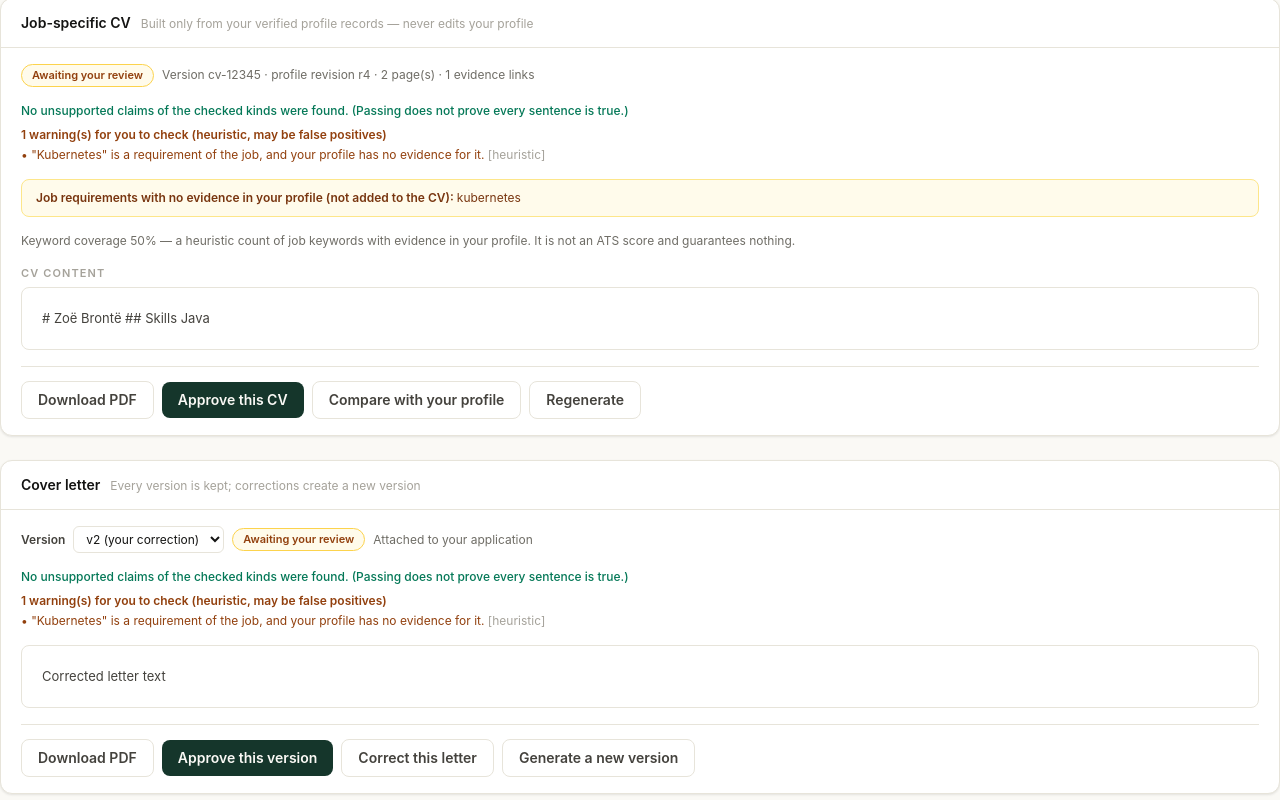
Scenario: PrepWorkspace › approves a valid CV through the review endpoint
(page scrolled)
Click the button "Approve this CV" at [233, 400], box [162,382,304,418]
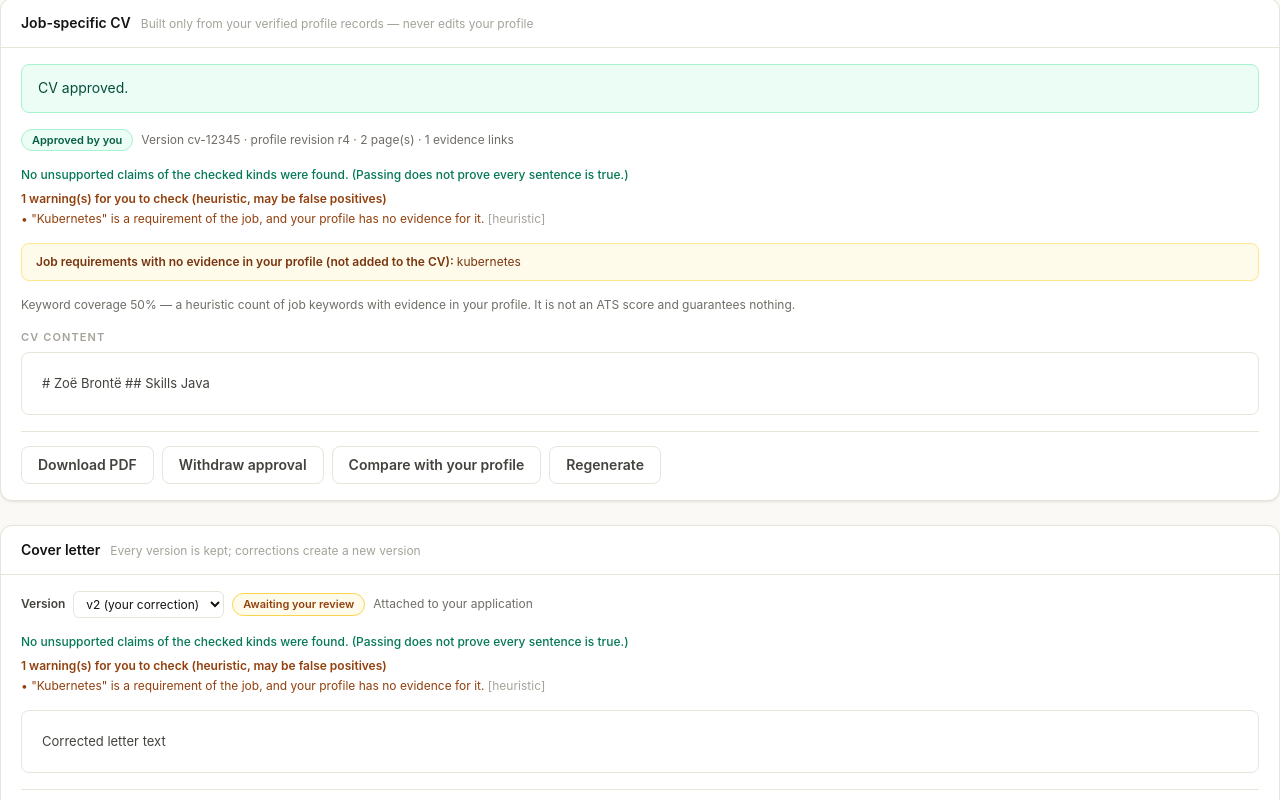
Now the text "Approved by you" is shown, box [21,129,133,151]
